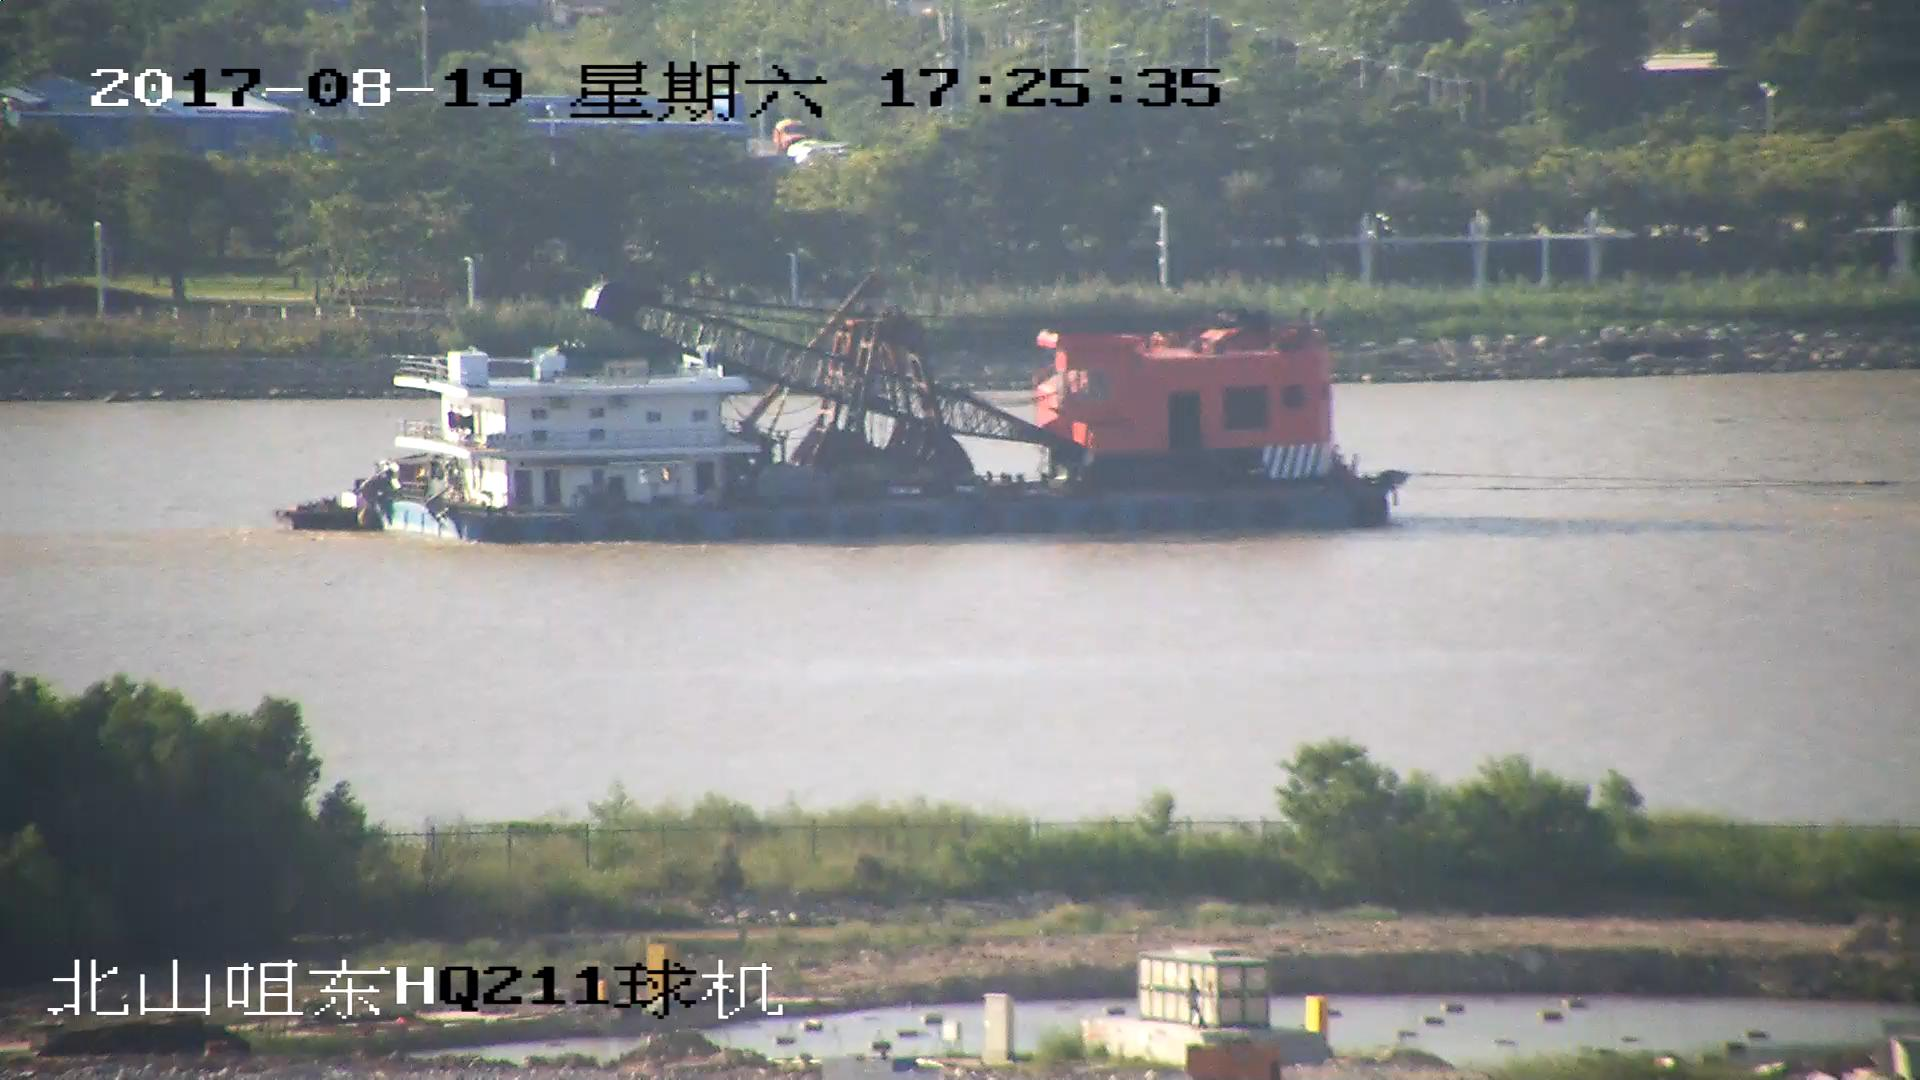fishing boat: (274, 282, 1407, 545)
